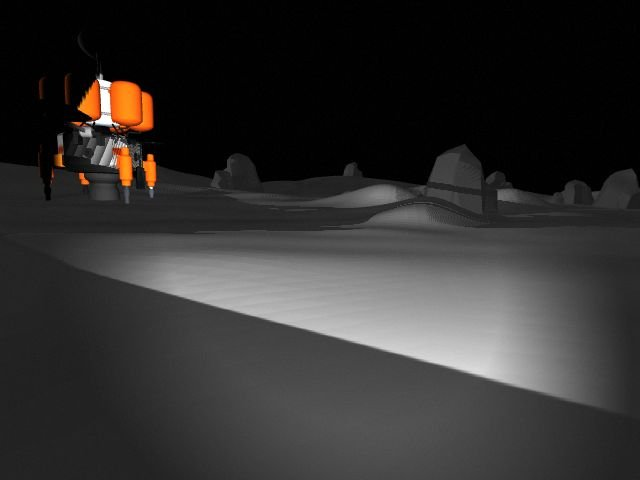homebase: (14, 20, 182, 209)
